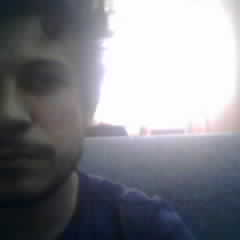without_mask: (1, 12, 88, 199)
